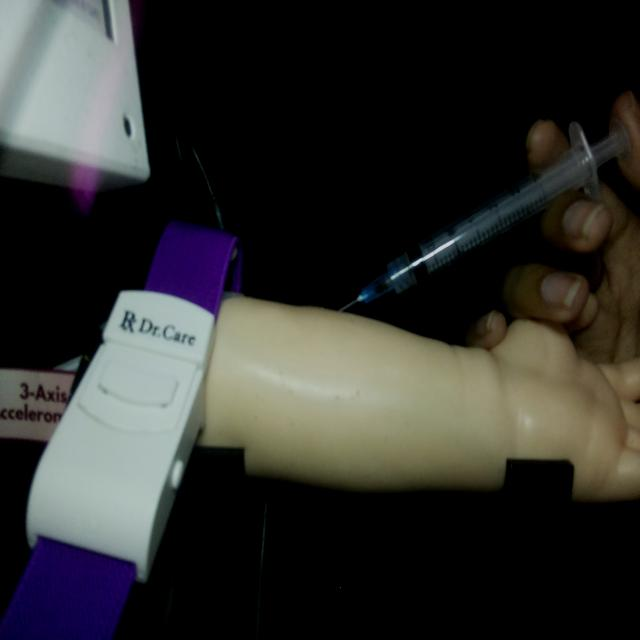22 degrees: (338, 114, 632, 314)
